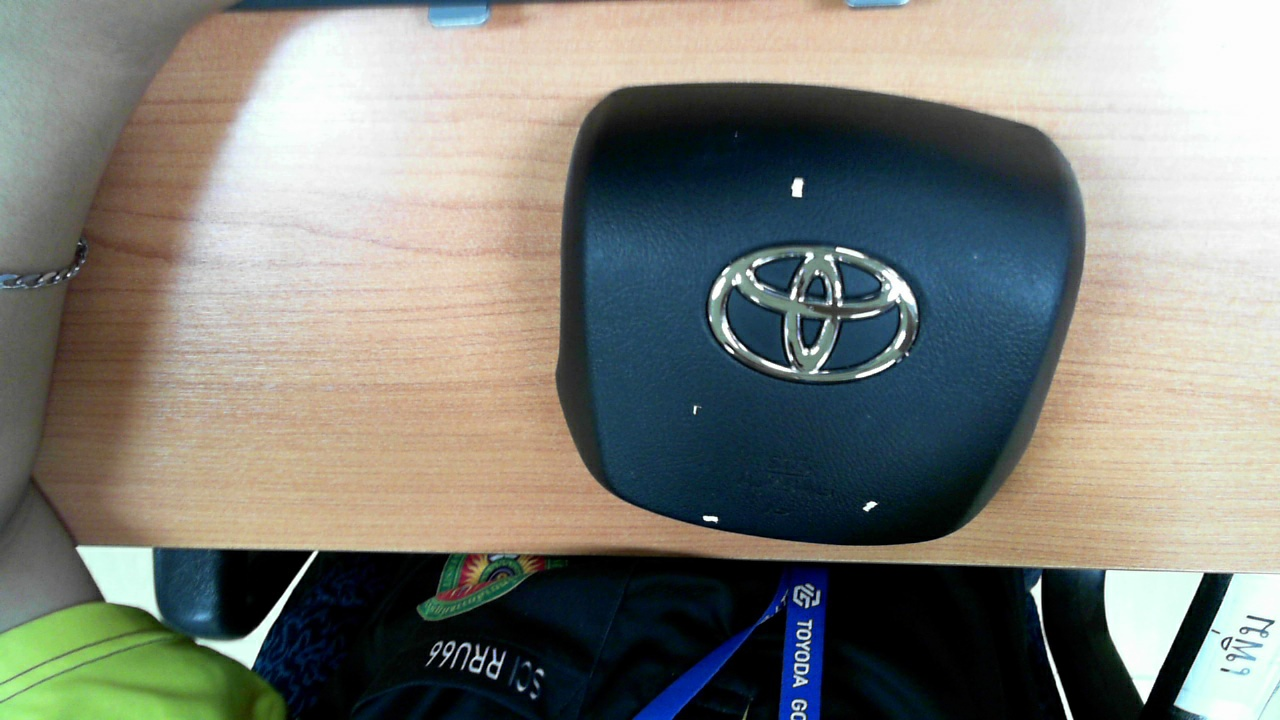Airbag: (558, 84, 1084, 546)
Mark: (791, 176, 804, 198), (862, 501, 878, 513), (703, 516, 719, 523), (693, 405, 701, 415), (734, 131, 738, 138), (974, 256, 978, 260)
